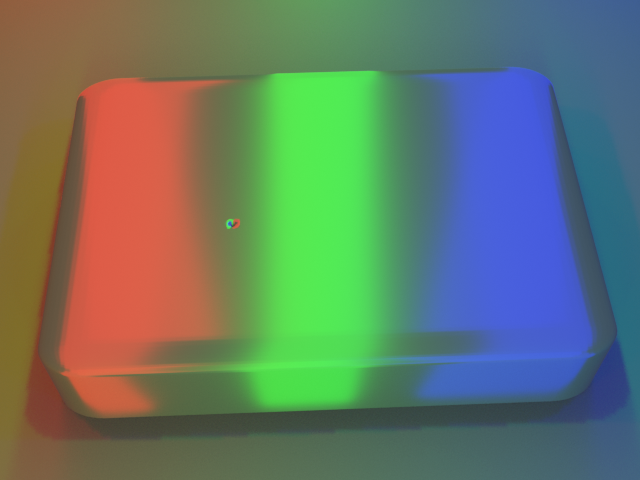dent: (207, 208, 242, 242)
